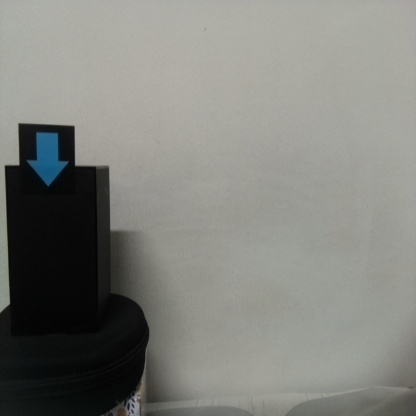id_2: (18, 124, 75, 200)
